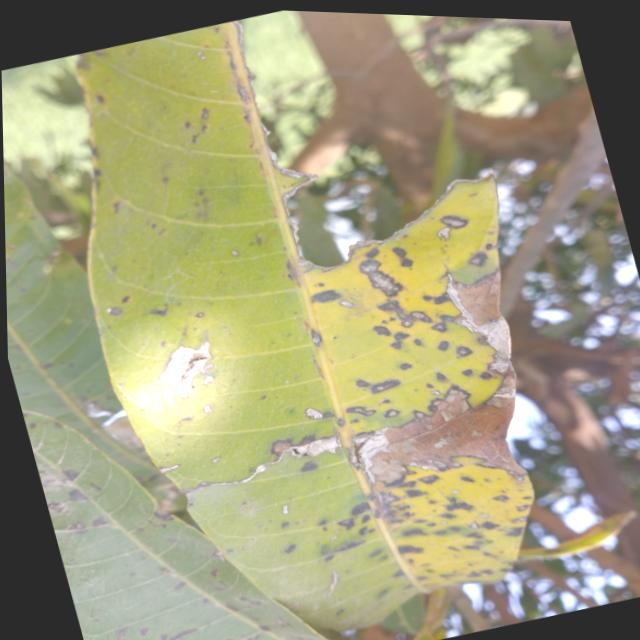Anthracnose: (289, 251, 483, 434), (349, 449, 526, 594)
